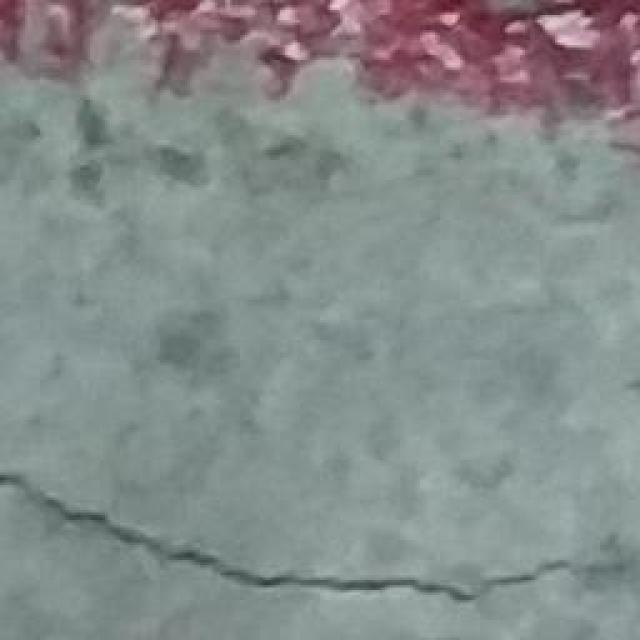Transverse: (0, 443, 640, 640)
